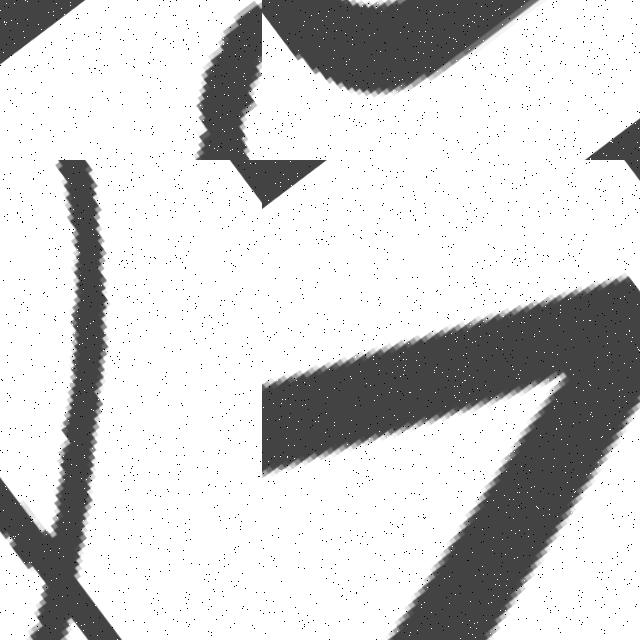7: (0, 160, 262, 640)
8: (0, 0, 262, 160)
H: (262, 0, 640, 160)
V: (262, 160, 640, 640)
